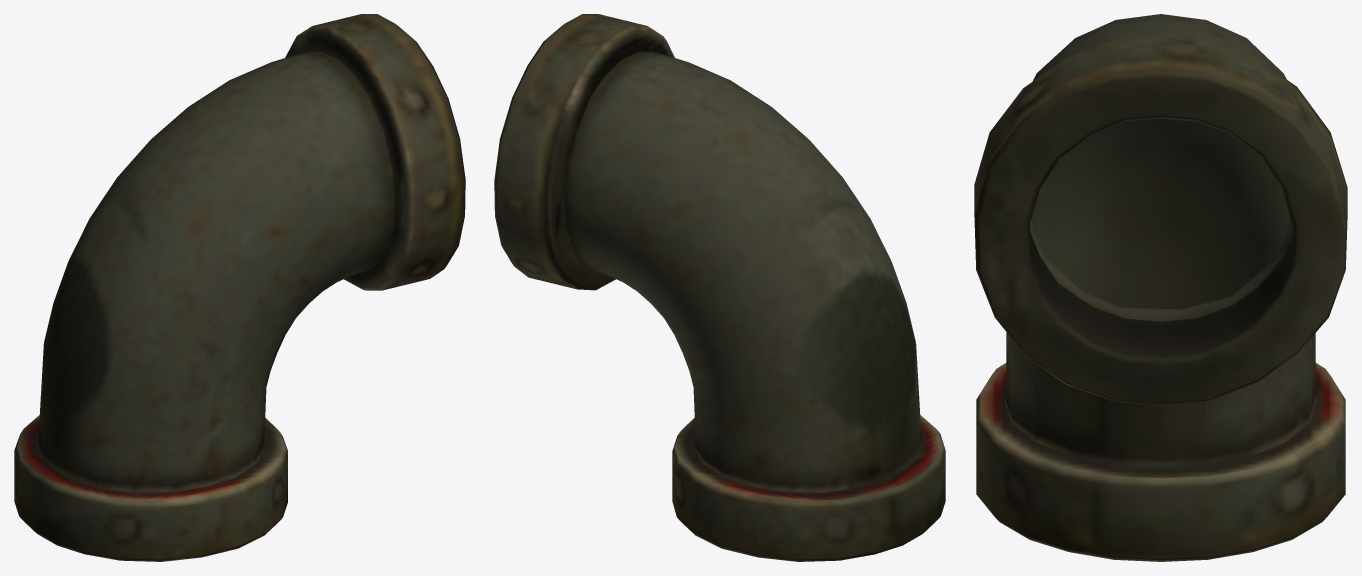
The model's file is pipe_90_degree_elbow.fbx.
The picture shows the model from 3 angles, left to right: view 1: azimuth 30°, elevation 25°; view 2: azimuth 150°, elevation 25°; view 3: azimuth 270°, elevation 25°; orthographic projection. The views are drawn at different scales.
Visible parts, largest first — view 1: pipe_90_degree_elbow; view 2: pipe_90_degree_elbow; view 3: pipe_90_degree_elbow.
Boxes of the visible parts, x1,y1,x2,y2 form: pipe_90_degree_elbow: (14, 14, 465, 561); pipe_90_degree_elbow: (494, 14, 945, 561); pipe_90_degree_elbow: (974, 14, 1347, 561).
Bounding box in the file's own units: 72.64 × 80.22 × 46.74.
